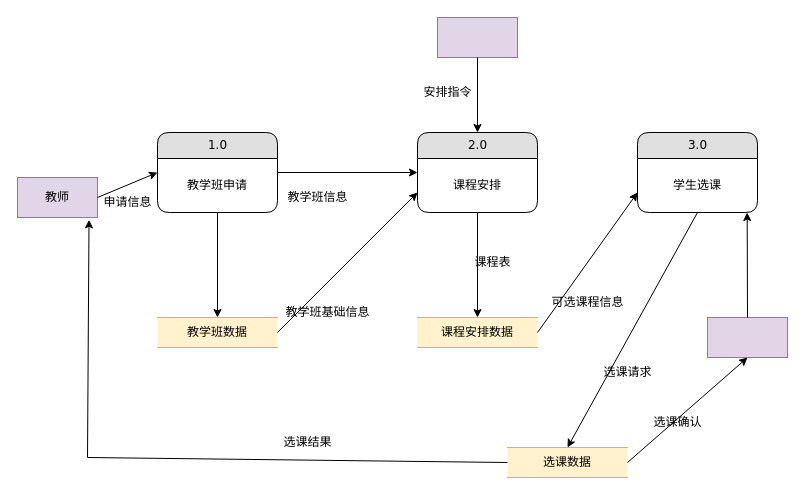
This 805x495 diagram has some shape labels left out. The centre of each missing label's shape, as x and y in pixels:
学生: (747,337)
管理员: (477,37)
